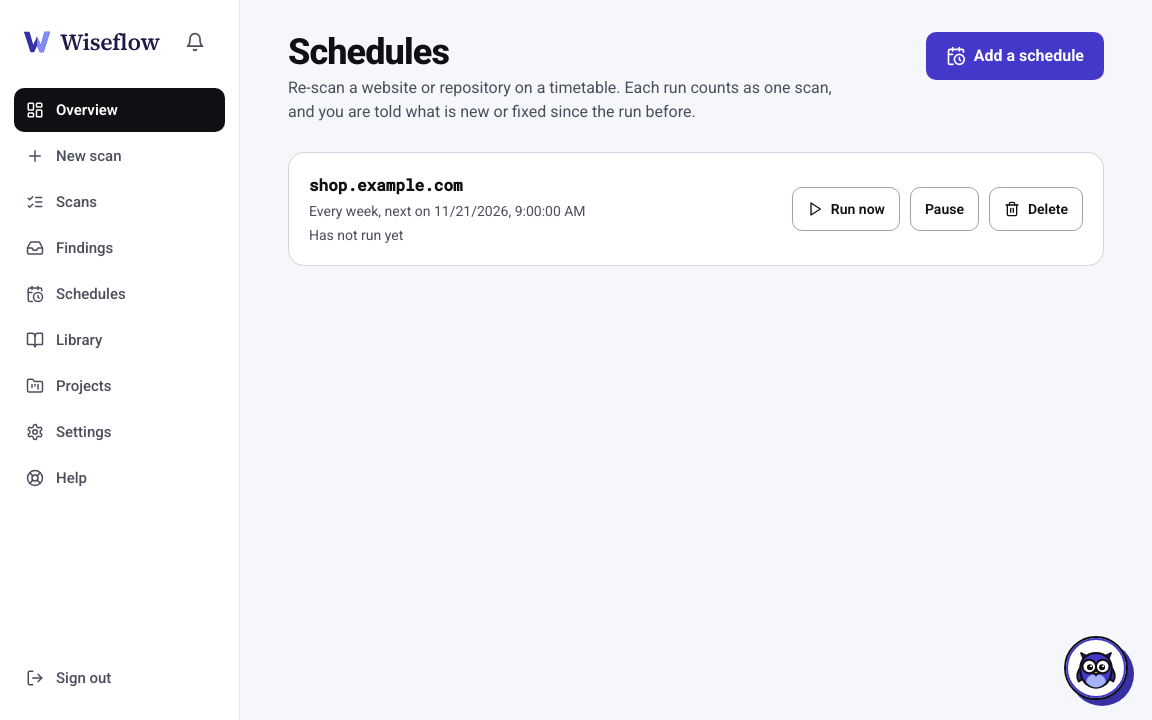
Test: SchedulesPage › shows the server's reason when a run cannot start
The image size is (1152, 720).
Click the button "Run now".
click(846, 209)  # box 792,187 -> 900,231
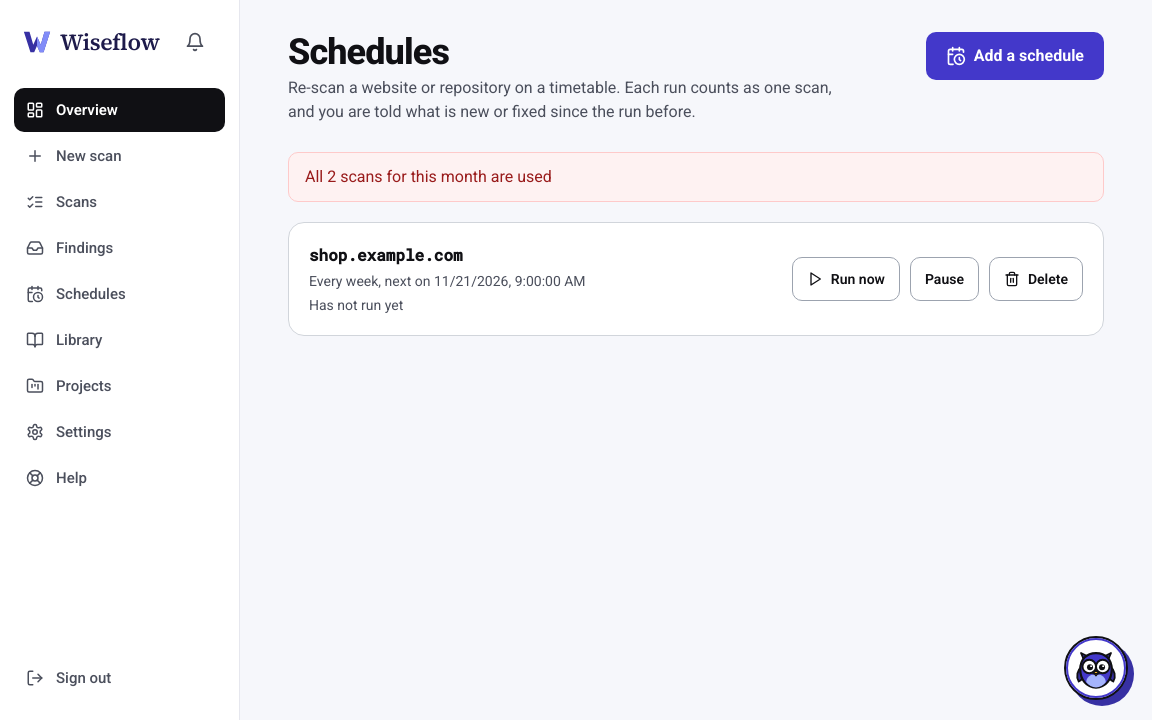
Check: the message reads "All 2 scans for this month are used", box 305,167 -> 552,186
